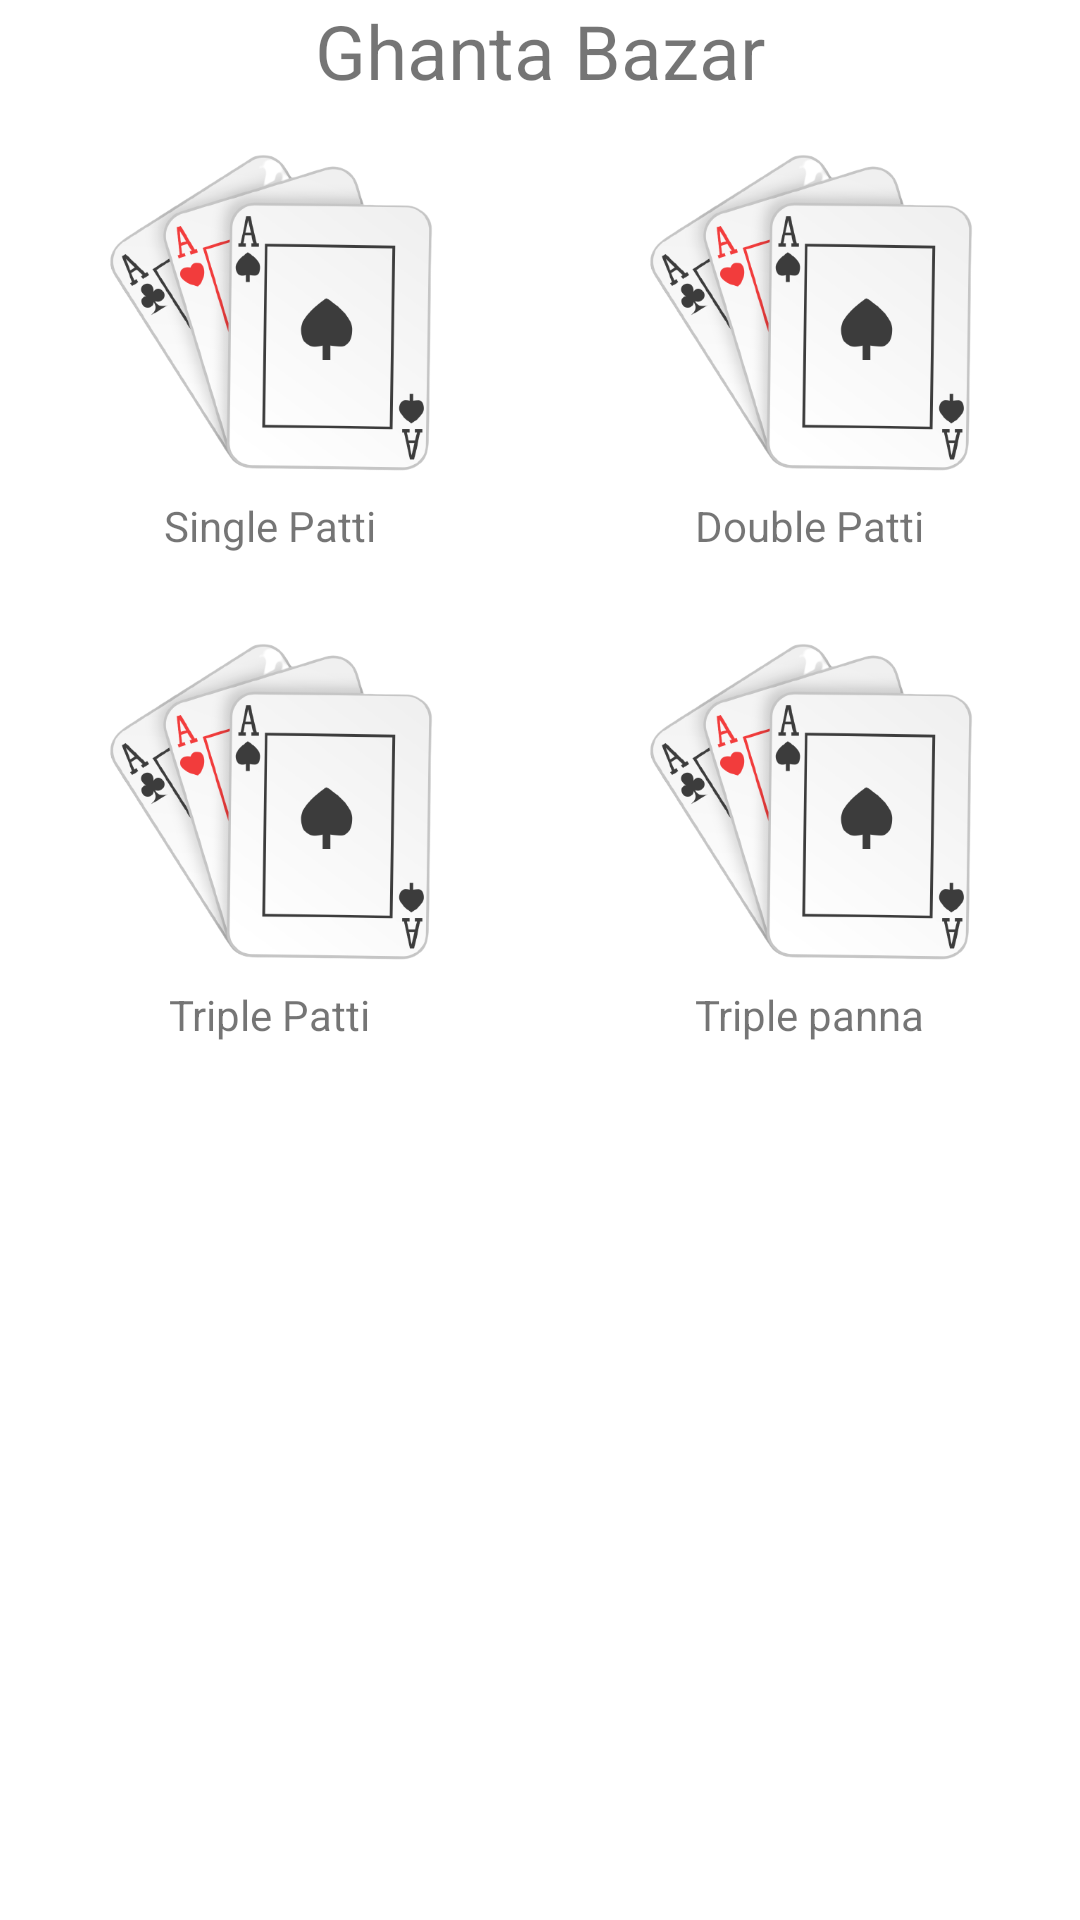

Icon bounding boxes for this 1080×1920 phone screenshot, format detection(x1, y1, x2, y2):
play card: detection(110, 155, 432, 470), detection(650, 155, 972, 470), detection(110, 644, 432, 959), detection(650, 644, 972, 959)
